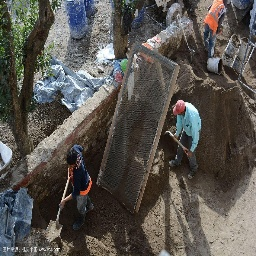no-helmet: (64, 145, 80, 171)
person: (64, 142, 95, 232), (171, 98, 203, 182), (204, 0, 227, 62)
